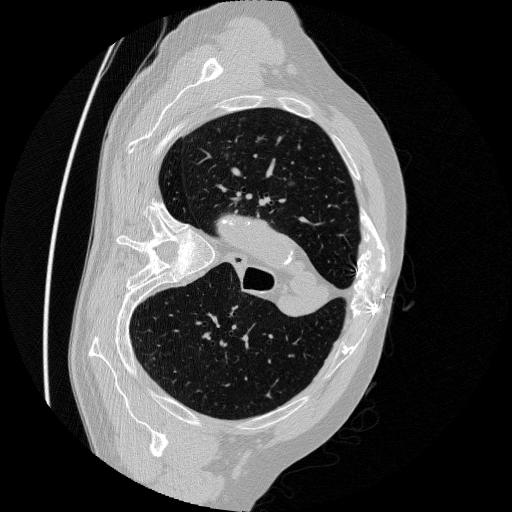nodule: (286, 179, 299, 192)
